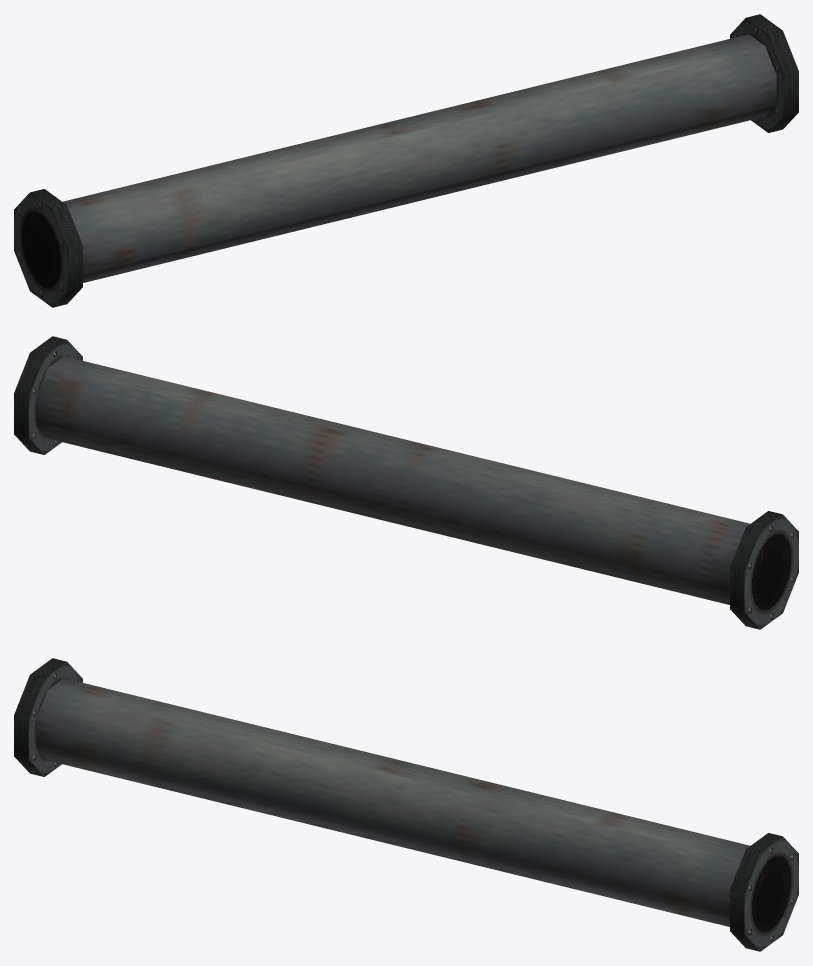
The model's file is SKC-PSX_01_PipeStraight1m.fbx.
3 views of the same model, one above another, from view 1: azimuth 30°, elevation 25°; view 2: azimuth 150°, elevation 25°; view 3: azimuth 330°, elevation 25° (orthographic).
Parts seen in each view (by area): view 1: SKC-PSX_01_PipeStraight1m; view 2: SKC-PSX_01_PipeStraight1m; view 3: SKC-PSX_01_PipeStraight1m.
Part boxes in pixels (x1,y1,x2,y2): SKC-PSX_01_PipeStraight1m: (14, 14, 798, 307); SKC-PSX_01_PipeStraight1m: (14, 336, 798, 629); SKC-PSX_01_PipeStraight1m: (14, 658, 798, 951).
Size of the model in its own units: 100 by 12.93 by 12.93.
Materials: 1 (1 with a texture image).
